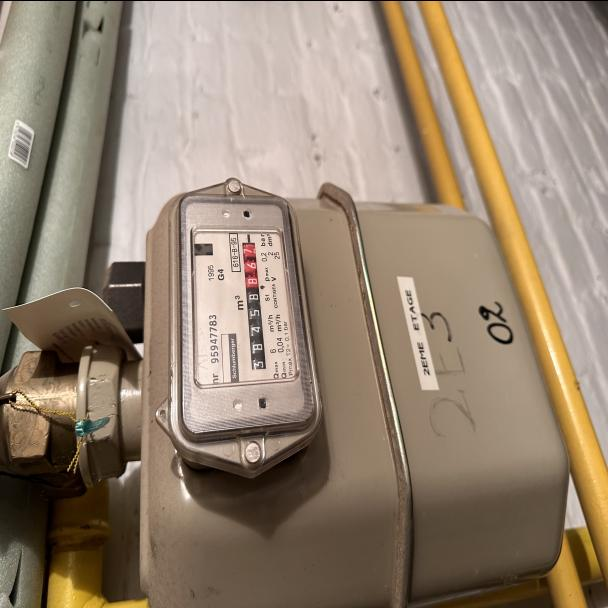3: (248, 353, 267, 370)
4: (248, 322, 264, 338)
5: (247, 303, 265, 321)
6: (240, 258, 260, 273)
7: (240, 240, 260, 260)
8: (243, 286, 264, 302), (243, 272, 263, 286), (250, 340, 266, 352)
cm: (238, 232, 264, 286)
counter: (243, 286, 273, 372)
